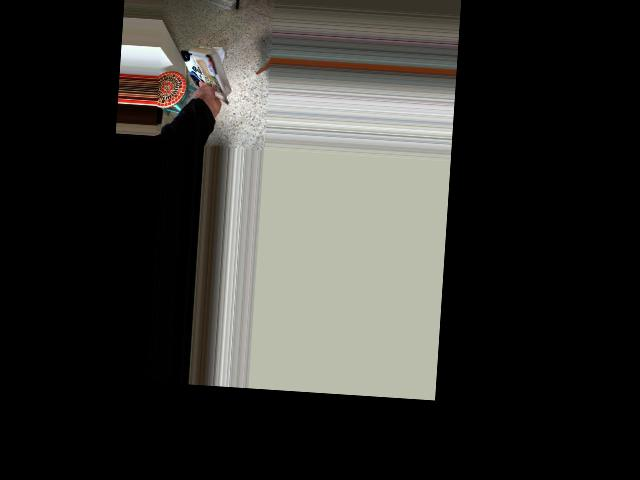cheese: (167, 43, 240, 118)
